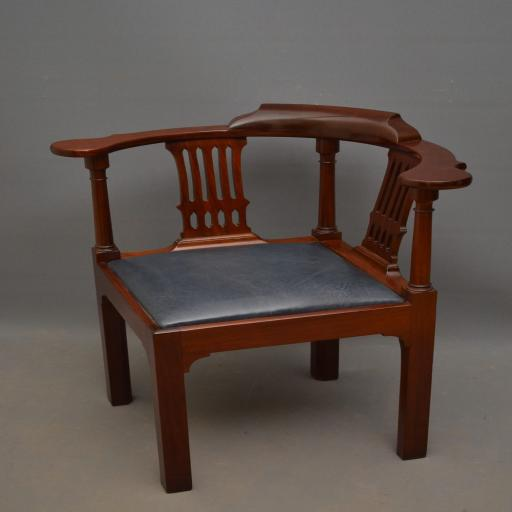chair: (50, 103, 472, 494)
